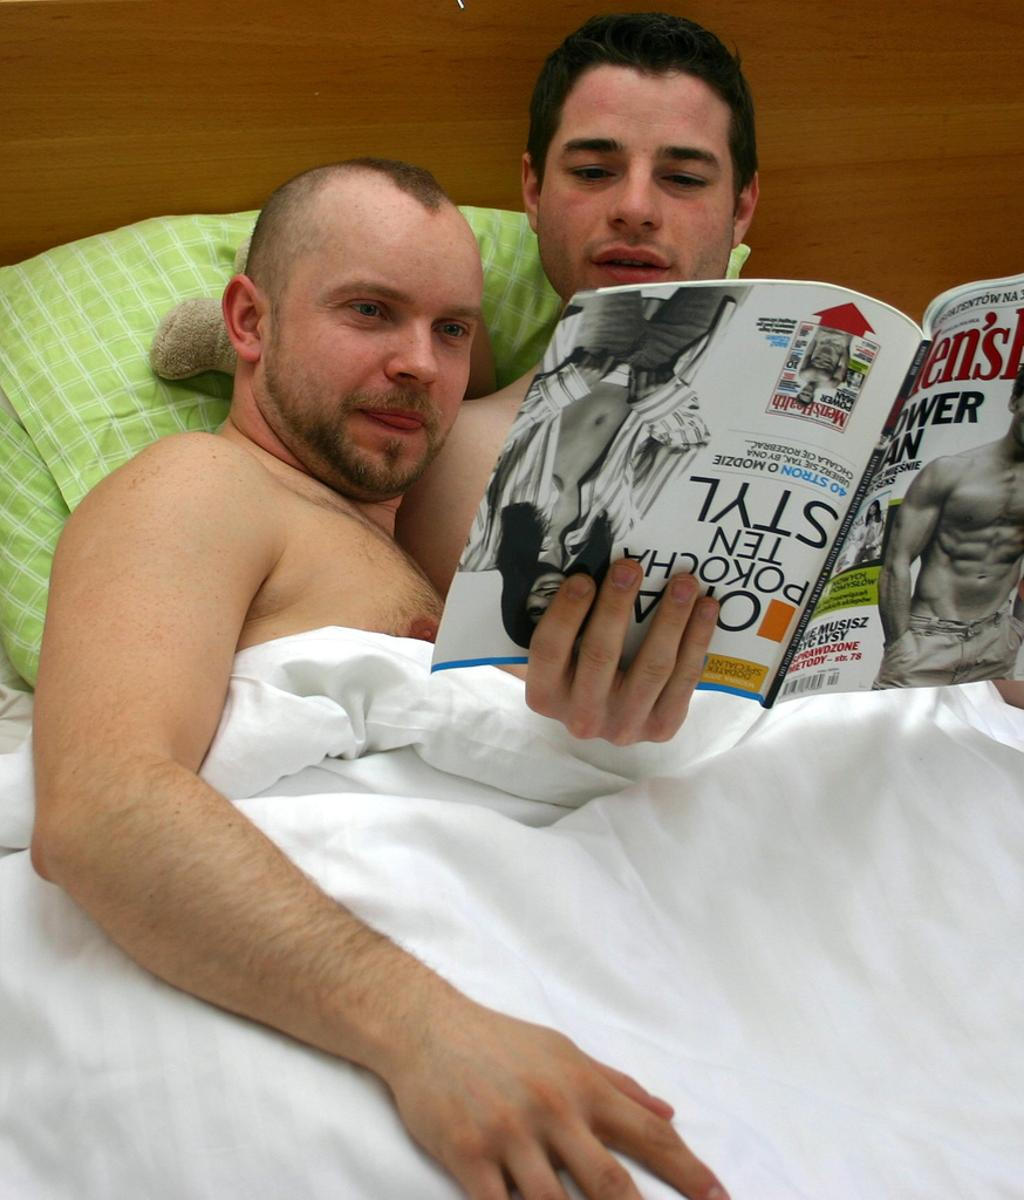face: (272, 202, 483, 493), (546, 73, 733, 324)
